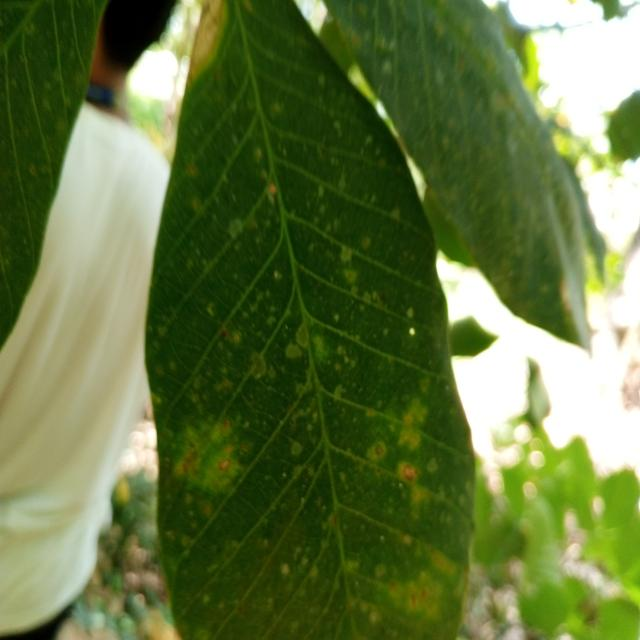Leaf-Blight: (186, 0, 224, 83)
